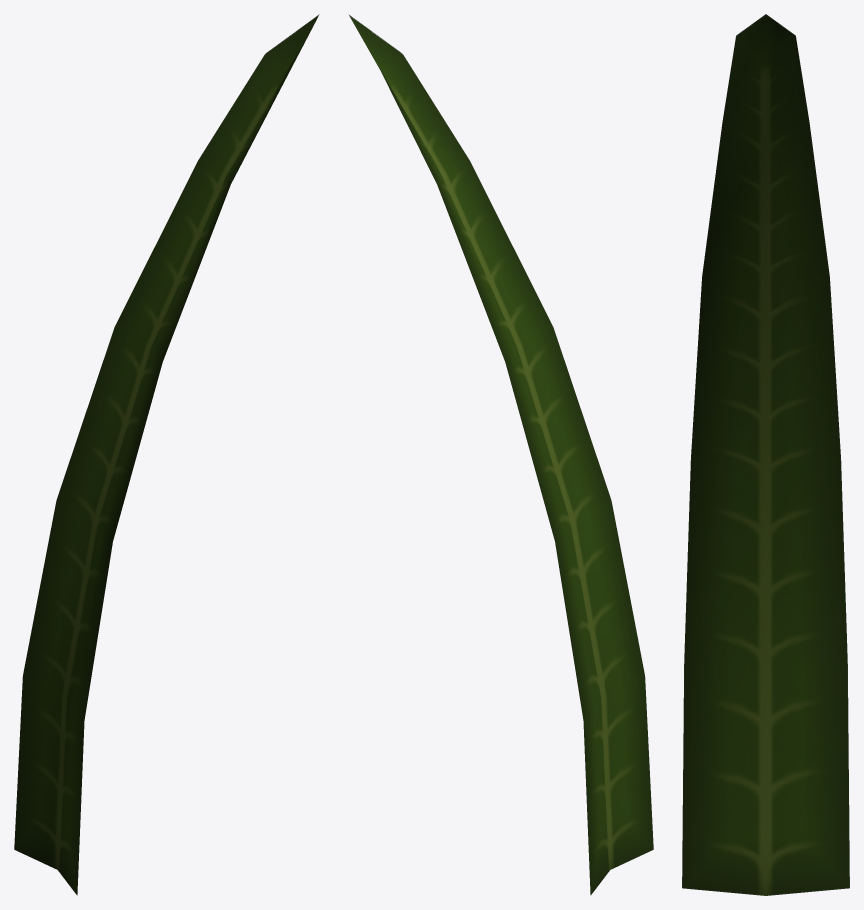
File: hierba_fbx.fbx
3 renders of one model, left to right at view 1: azimuth 30°, elevation 25°; view 2: azimuth 150°, elevation 25°; view 3: azimuth 270°, elevation 25°, orthographic. The views are drawn at different scales.
Parts seen in each view (by area): view 1: hierba; view 2: hierba; view 3: hierba.
Part boxes in pixels (x1=…): hierba: x1=14, y1=14, x2=319, y2=895; hierba: x1=348, y1=14, x2=653, y2=895; hierba: x1=682, y1=14, x2=849, y2=895.
Size of the model in its own units: 0.6204 by 1.71 by 0.2479.
1 material, 1 textured.
